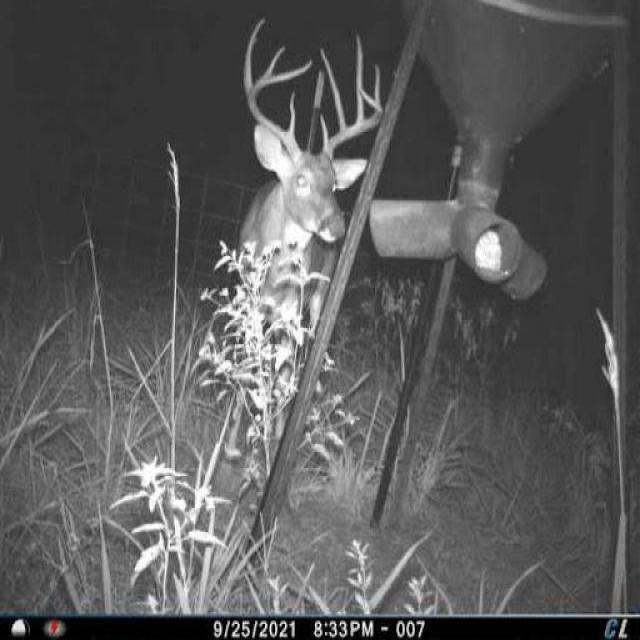deer: (231, 9, 389, 440)
